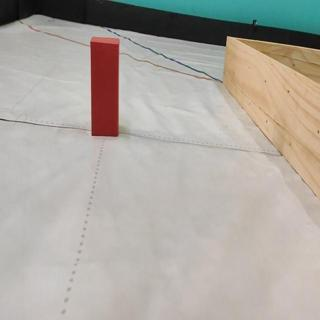redbox: (89, 34, 121, 137)
